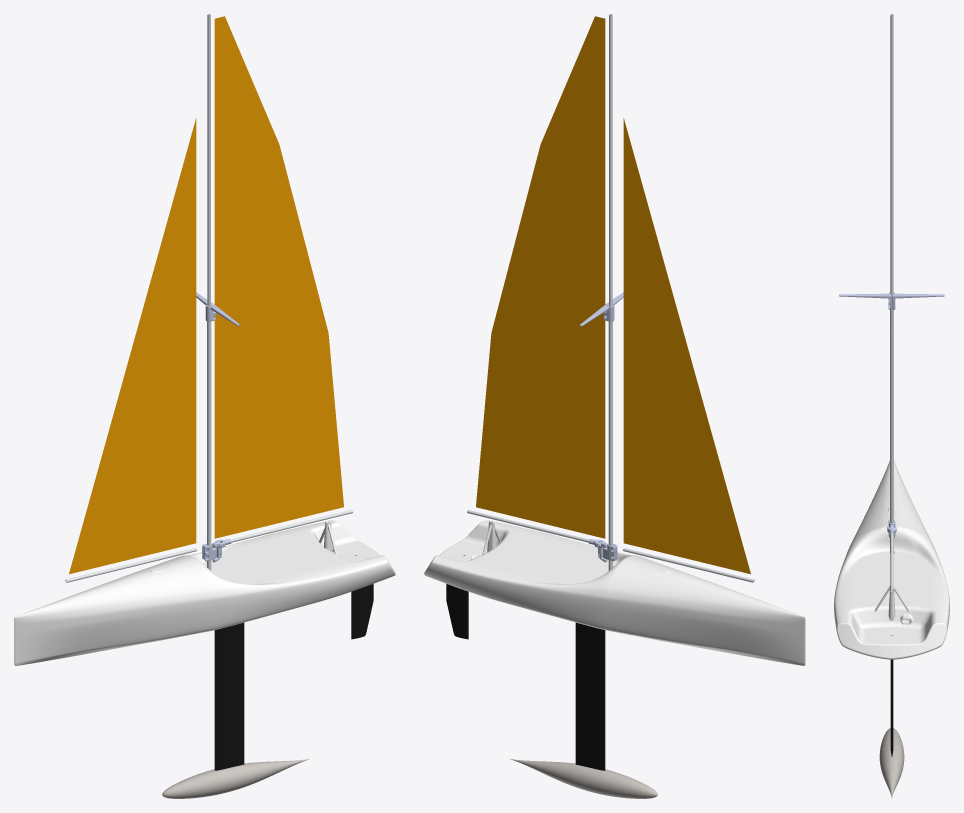
File: haddock.glb
3 renders of one model, left to right at view 1: azimuth 30°, elevation 25°; view 2: azimuth 150°, elevation 25°; view 3: azimuth 270°, elevation 25°, orthographic. The views are drawn at different scales.
Parts seen in each view (by area): view 1: Pieza3^Versió Imprimible-1, Centre Proa^Versió Imprimible-12, Centre Popa^Versió Imprimible-12, Proa^Versió Imprimible-12, Popa^Versió Imprimible-13, Pieza4^Versió Imprimible-1, BLBDarrere-2, Pal inferior-1, Pal superior-1, Copy of Pieza4^Versió Imprimible-1; view 2: Pieza3^Versió Imprimible-1, Centre Proa^Versió Imprimible-12, Centre Popa^Versió Imprimible-12, Proa^Versió Imprimible-12, Popa^Versió Imprimible-13, Pieza4^Versió Imprimible-1, BLBDarrere-2, Pal inferior-1, Pal superior-1, Copy of Pieza4^Versió Imprimible-1; view 3: Popa^Versió Imprimible-13, Centre Popa^Versió Imprimible-12, Centre Proa^Versió Imprimible-12, Pal superior-1, BLBDarrere-2, Pal inferior-1, Creueta-1, Proa^Versió Imprimible-12, Escotero major^Versió Imprimible-2, Pieza4^Versió Imprimible-1, Botavara alumini-1.
Boxes of the visible parts, x1,y1,x2,y2 form: Pieza3^Versió Imprimible-1: [69, 16, 343, 574]; Centre Proa^Versió Imprimible-12: [101, 555, 218, 650]; Centre Popa^Versió Imprimible-12: [187, 537, 318, 629]; Proa^Versió Imprimible-12: [14, 585, 116, 665]; Popa^Versió Imprimible-13: [260, 520, 395, 602]; Pieza4^Versió Imprimible-1: [214, 622, 244, 770]; BLBDarrere-2: [162, 759, 309, 798]; Pal inferior-1: [207, 305, 211, 570]; Pal superior-1: [207, 14, 210, 306]; Copy of Pieza4^Versió Imprimible-1: [351, 584, 373, 639]; Pieza3^Versió Imprimible-1: [476, 16, 750, 574]; Centre Proa^Versió Imprimible-12: [601, 555, 718, 650]; Centre Popa^Versió Imprimible-12: [501, 537, 632, 629]; Proa^Versió Imprimible-12: [703, 585, 805, 665]; Popa^Versió Imprimible-13: [424, 520, 559, 602]; Pieza4^Versió Imprimible-1: [575, 622, 605, 770]; BLBDarrere-2: [510, 759, 657, 798]; Pal inferior-1: [608, 305, 612, 570]; Pal superior-1: [609, 14, 612, 306]; Copy of Pieza4^Versió Imprimible-1: [446, 584, 468, 639]; Popa^Versió Imprimible-13: [834, 589, 949, 659]; Centre Popa^Versió Imprimible-12: [835, 527, 948, 620]; Centre Proa^Versió Imprimible-12: [850, 489, 933, 545]; Pal superior-1: [890, 14, 893, 312]; BLBDarrere-2: [879, 728, 904, 797]; Pal inferior-1: [890, 293, 893, 553]; Creueta-1: [839, 292, 944, 309]; Proa^Versió Imprimible-12: [872, 461, 911, 500]; Escotero major^Versió Imprimible-2: [874, 586, 909, 620]; Pieza4^Versió Imprimible-1: [890, 660, 893, 756]; Botavara alumini-1: [890, 532, 893, 592].
Bounding box in the file's own units: 0.9891 × 2.01 × 0.2822.
